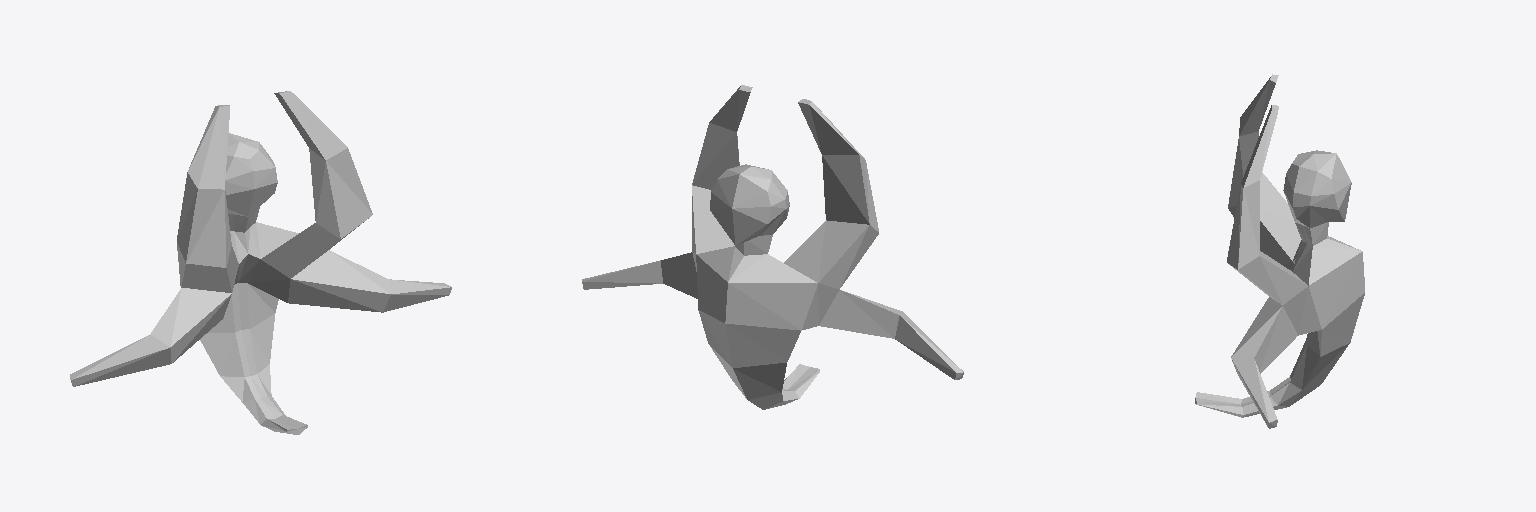
The model's file is horror.obj.
3 views of the same model, side by side, from view 1: azimuth 30°, elevation 25°; view 2: azimuth 150°, elevation 25°; view 3: azimuth 270°, elevation 25° (orthographic).
Visible parts, largest first — view 1: Ghostly_Cube; view 2: Ghostly_Cube; view 3: Ghostly_Cube.
Part boxes in pixels (x1,y1,x2,y2): Ghostly_Cube: (70,91,451,434); Ghostly_Cube: (582,85,963,409); Ghostly_Cube: (1195,74,1364,428).
Size of the model in its own units: 1.97 by 1.6 by 0.7658.